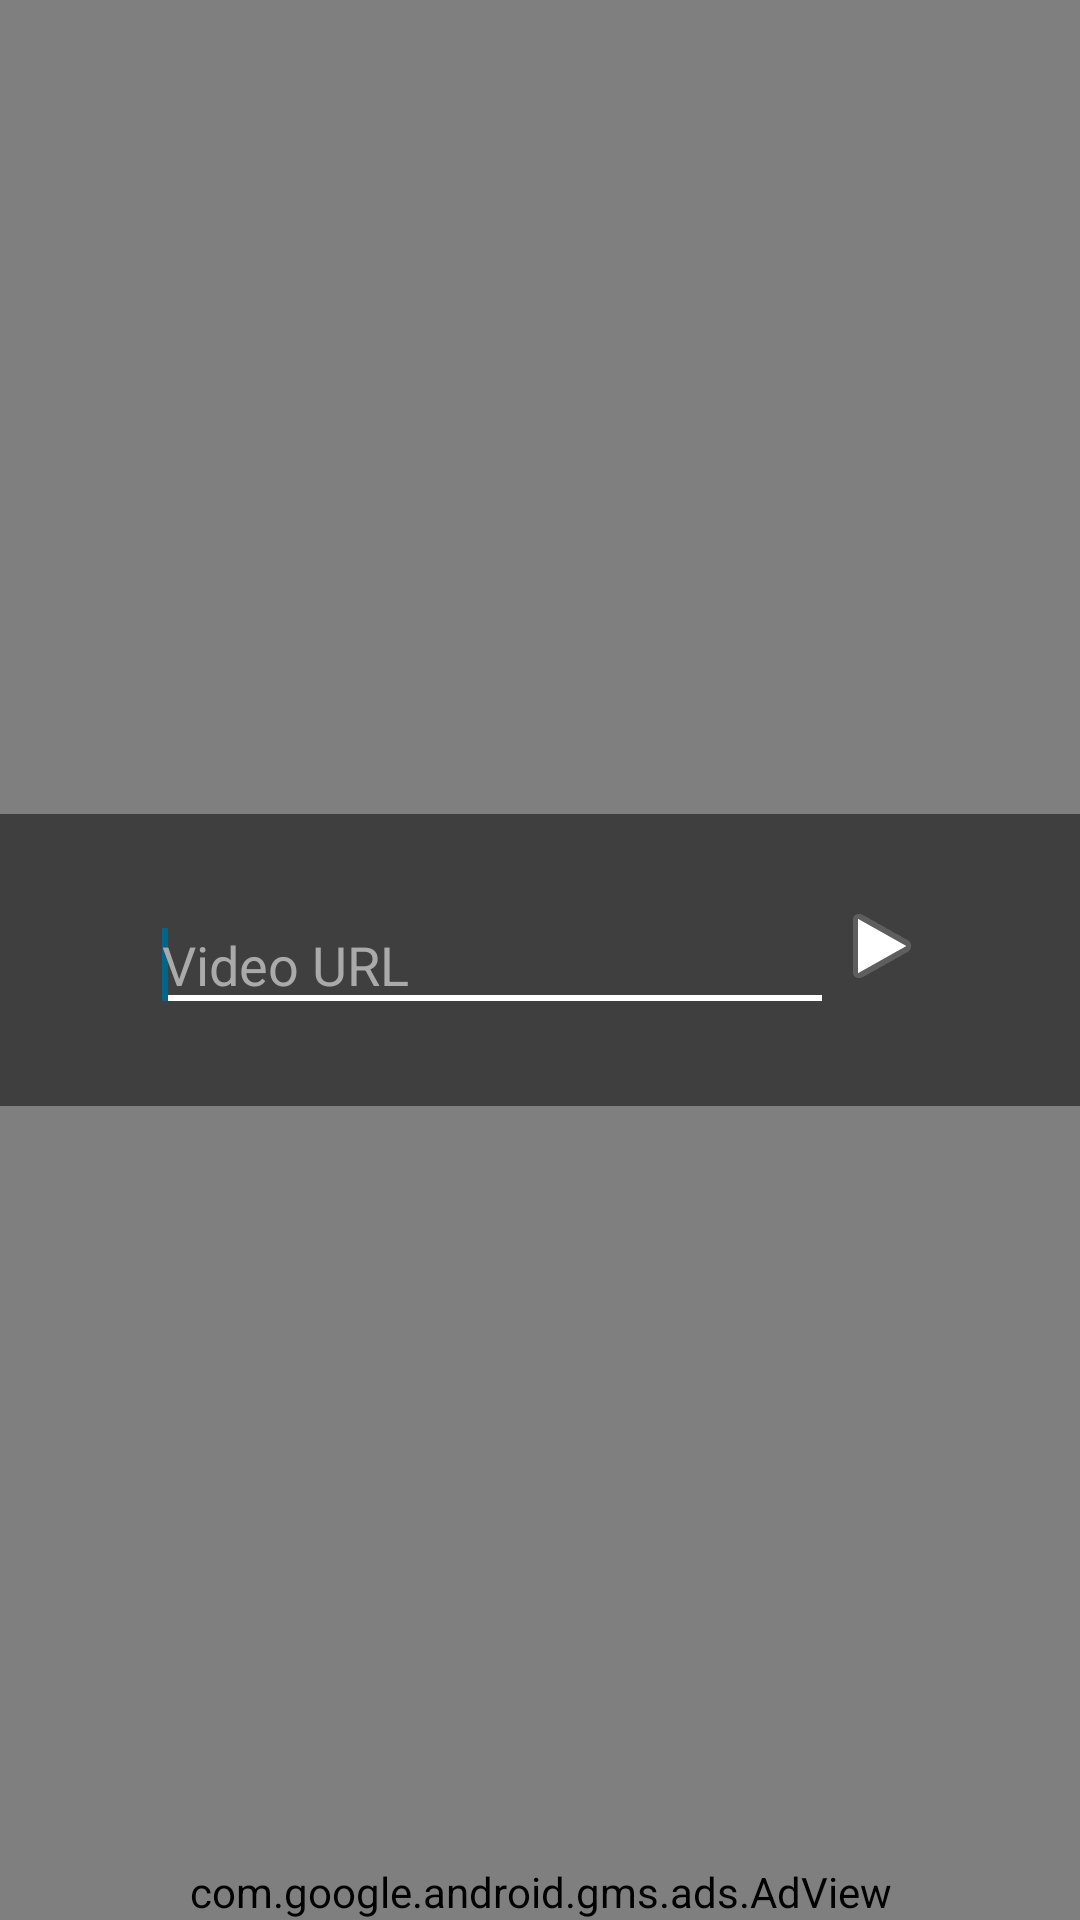

Where icons sit on this 1080 × 1920 app screen, as (x1, y1, x2, y2):
play: (853, 914, 911, 978)
